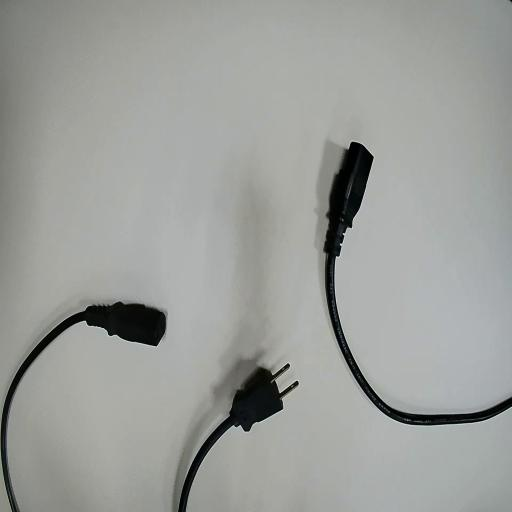wire: (324, 143, 511, 423), (0, 302, 164, 511), (178, 368, 291, 511)
